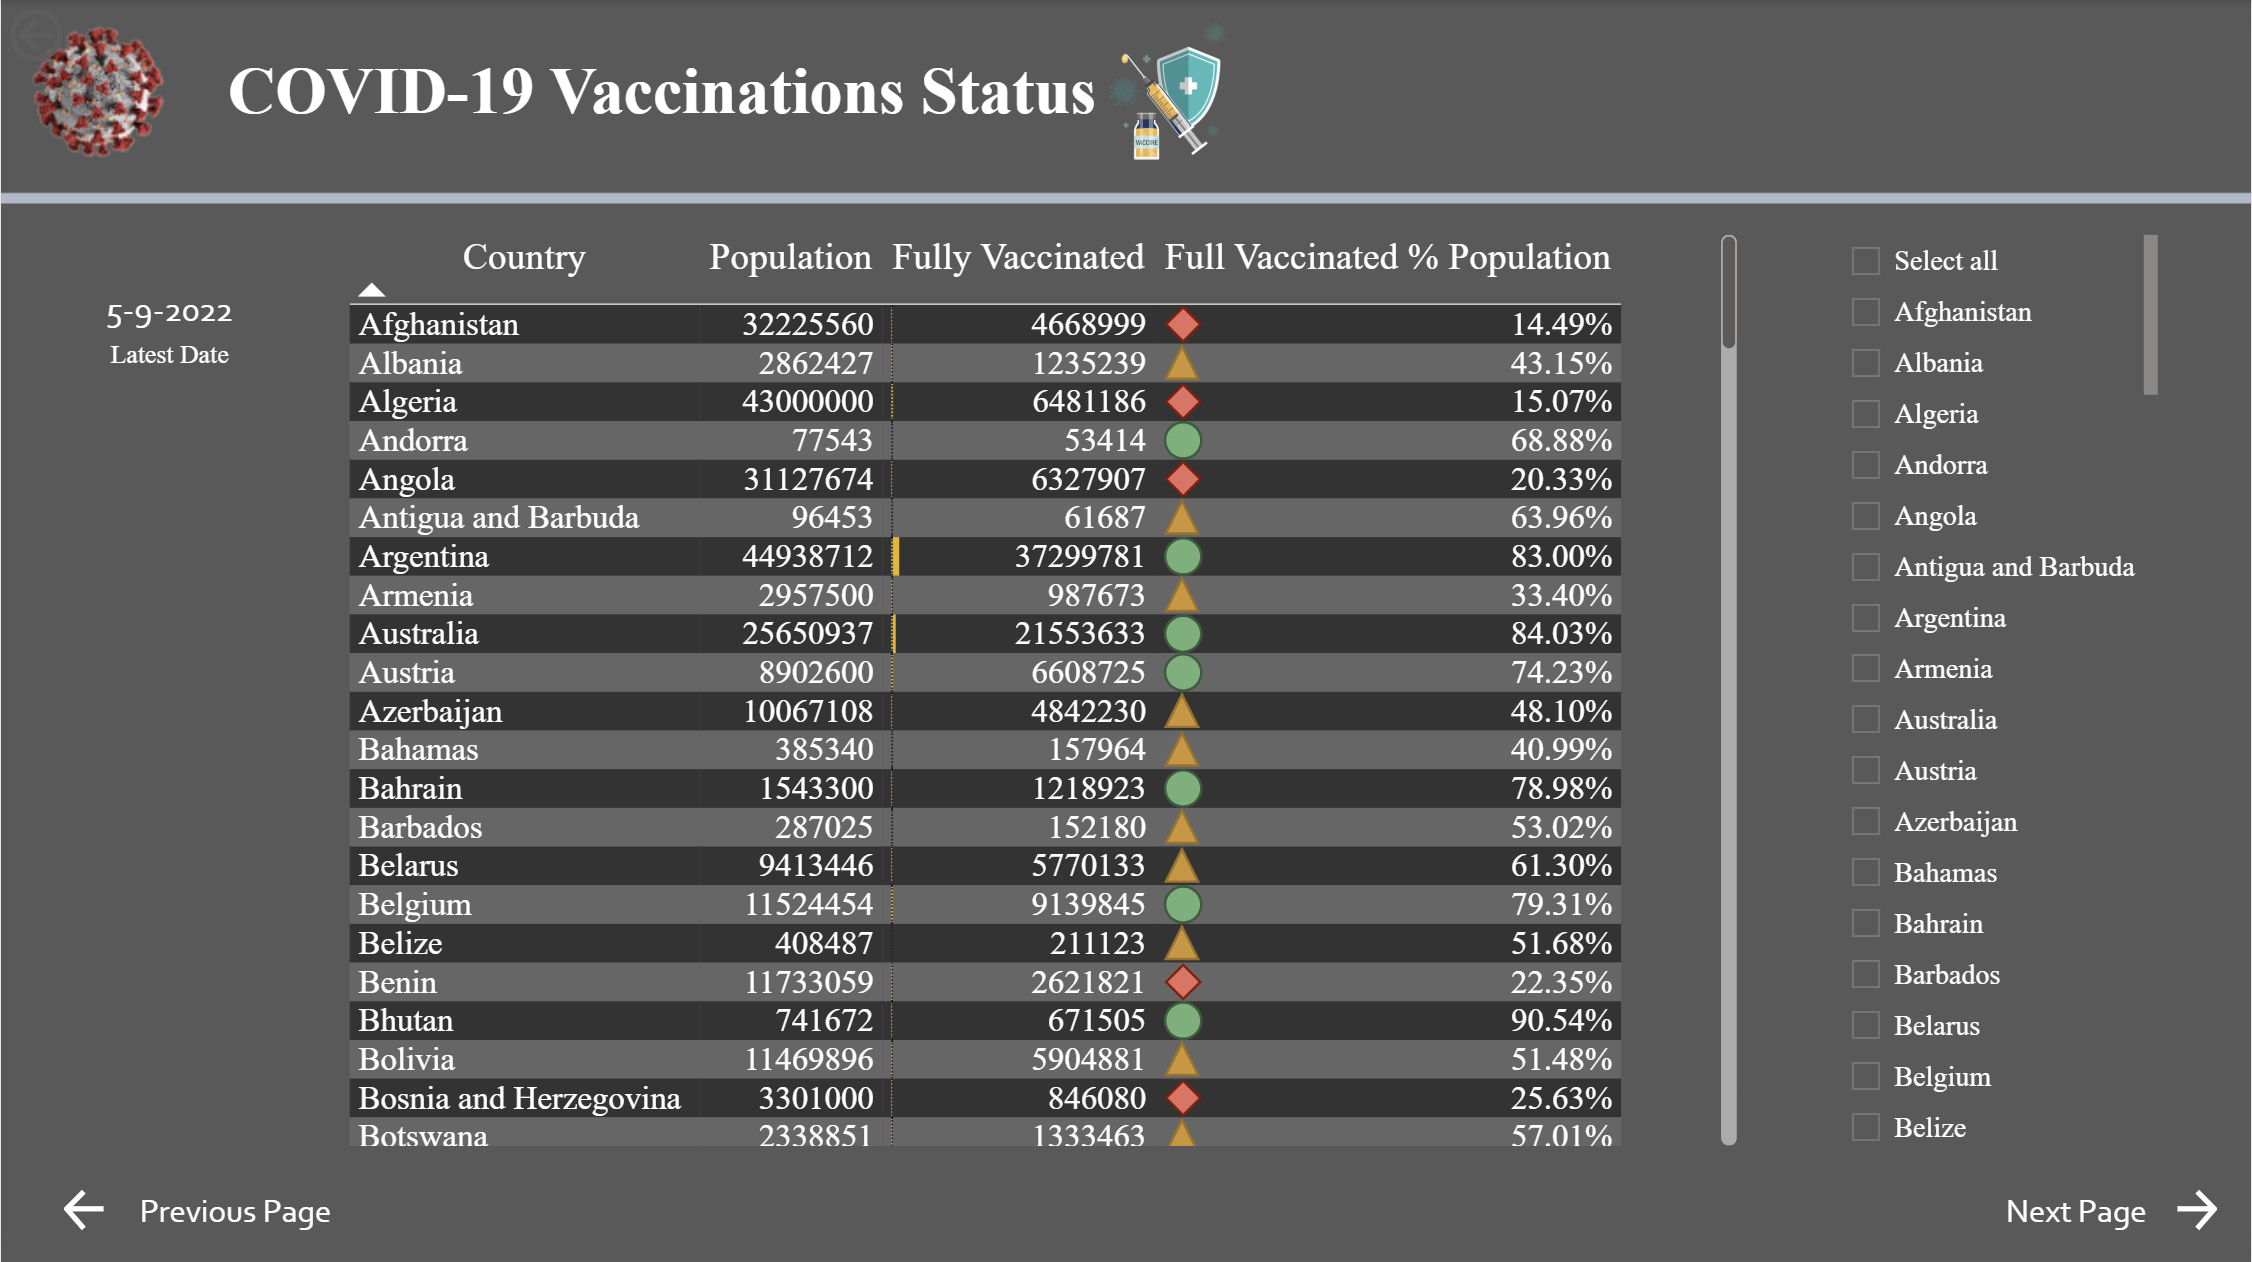

The dashboard page shown, as its layout file describes it:
{"tool":"powerbi","page":{"name":"Vaccination Status","canvas":[1280,720],"ordinal":3},"visuals":[{"type":"textbox","box":[124,25,544,96],"z":0},{"type":"tableEx","fields":{"Values":["Vaccination.Country","World Population.Population","Sum(Vaccination.People_fully_vaccinated)","COVID-19 Measures.Full Vaccinated % Population"]},"box":[192,128,800,528],"z":1000},{"type":"actionButton","box":[0,0,100,40],"z":2000},{"type":"slicer","fields":{"Values":["Vaccination.Country"]},"box":[1040,128,192,528],"z":3000},{"type":"card","title":"Latest Data","fields":{"Values":["Max(Vaccination.Date)"]},"box":[32,144,128,80],"z":4000},{"type":"actionButton","box":[1136,672,128,32],"z":5000},{"type":"actionButton","box":[32,672,160,32],"z":6000},{"type":"image","box":[544,0,240,96],"z":6501}]}

Visuals, with their boxes in screenshot pixels (x1, y1, x2, y2), scaled from the page's 1280x720 canvas onto the 2252x1262 screenshot:
textbox: BBox(218, 44, 1175, 212)
tableEx - Vaccination.Country x World Population.Population: BBox(338, 224, 1745, 1150)
actionButton: BBox(0, 0, 176, 70)
slicer - Vaccination.Country: BBox(1830, 224, 2168, 1150)
"Latest Data" card: BBox(56, 252, 282, 393)
actionButton: BBox(1999, 1178, 2224, 1234)
actionButton: BBox(56, 1178, 338, 1234)
image: BBox(957, 0, 1379, 168)
